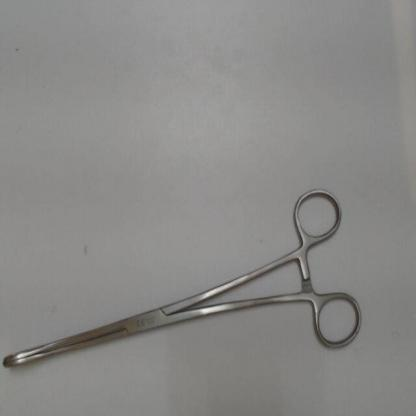Sponge Forceps: (2, 179, 368, 382)
